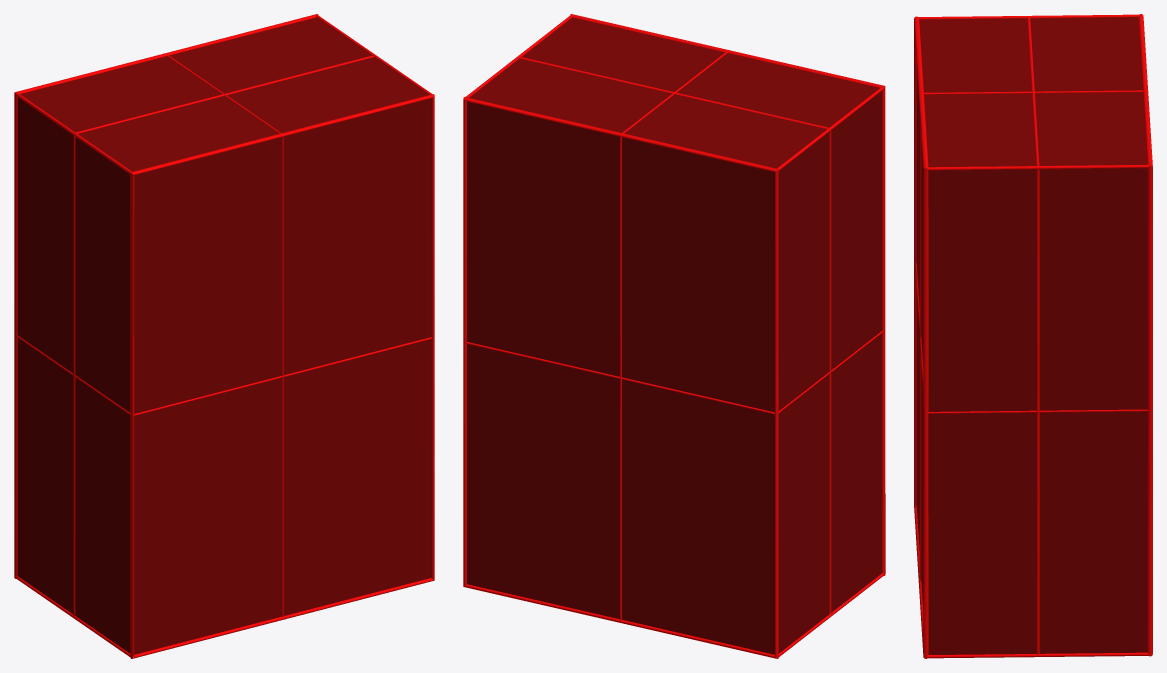
File: mystical-arcases-red-v146.glb
3 views of the same model, side by side, from view 1: azimuth 30°, elevation 25°; view 2: azimuth 150°, elevation 25°; view 3: azimuth 270°, elevation 25° (orthographic).
Parts seen in each view (by area): view 1: alkol; view 2: alkol; view 3: alkol.
Boxes of the visible parts, bbox=[...] form: alkol: bbox=[14, 14, 434, 658]; alkol: bbox=[463, 14, 885, 658]; alkol: bbox=[914, 14, 1152, 658].
Bounding box in the file's own units: 1.62 × 2.41 × 1.06.
